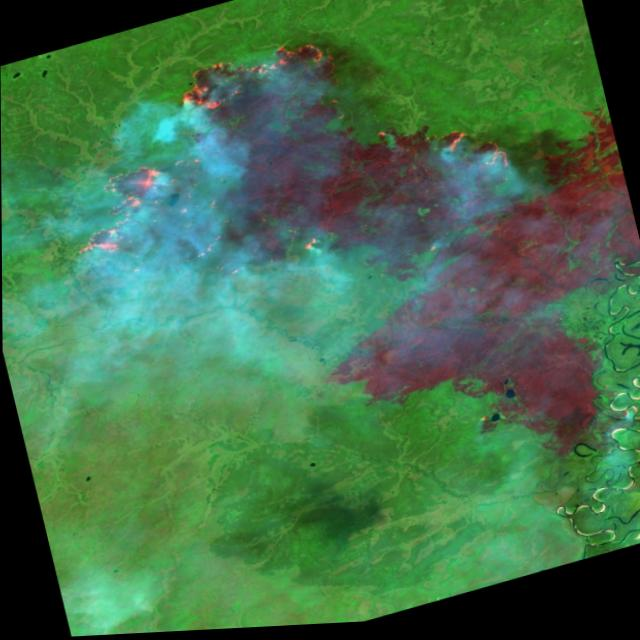fire: (38, 0, 527, 329)
